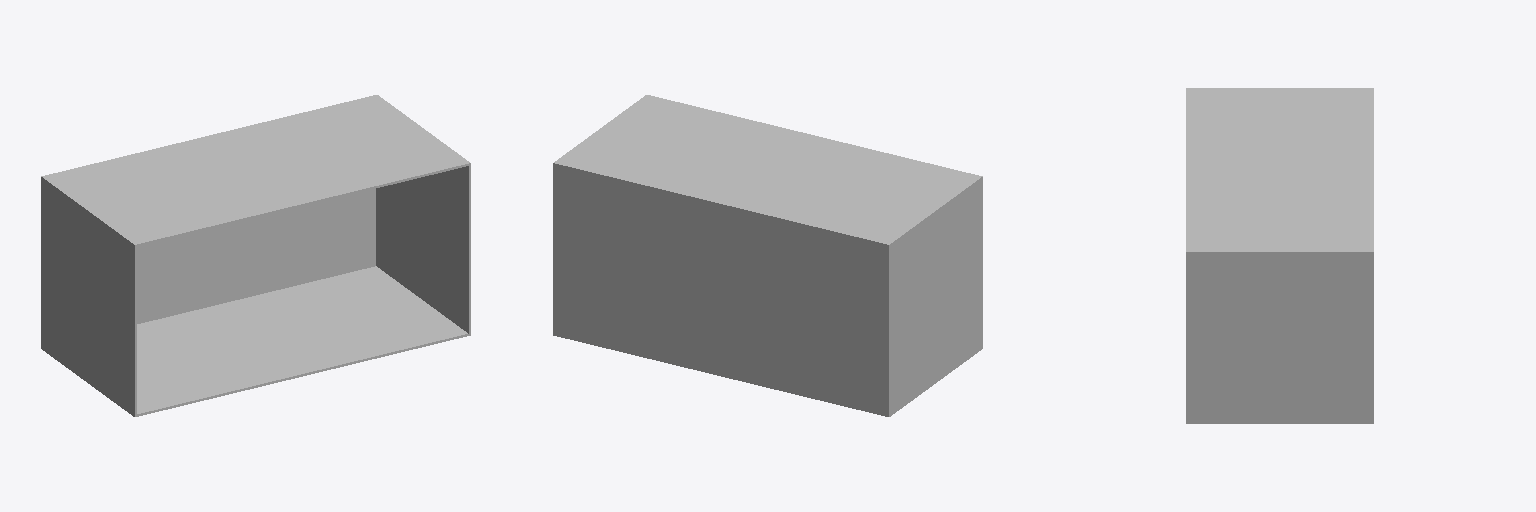
Rendered from file_cabinet_large_open.obj.
3 renders of one model, left to right at view 1: azimuth 30°, elevation 25°; view 2: azimuth 150°, elevation 25°; view 3: azimuth 270°, elevation 25°, orthographic.
Parts seen in each view (by area): view 1: file_cabinet_large_open; view 2: file_cabinet_large_open; view 3: file_cabinet_large_open.
Boxes of the visible parts, <box> form: file_cabinet_large_open: <box>41,95,470,416</box>; file_cabinet_large_open: <box>553,95,982,416</box>; file_cabinet_large_open: <box>1186,88,1373,423</box>.
Bounding box in the file's own units: 1.45 × 0.7114 × 0.6994.